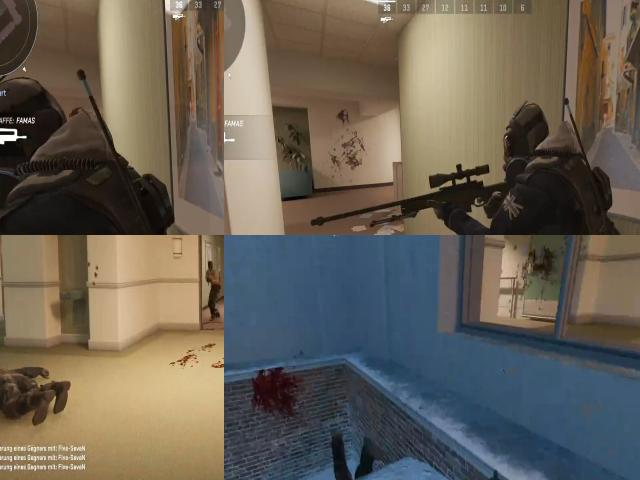CT: (22, 87, 163, 235), (491, 84, 588, 235)
CT-Head: (497, 96, 562, 188)
Dead: (328, 423, 385, 480)
T: (0, 365, 65, 416), (205, 260, 220, 294)
T-Head: (205, 257, 215, 272)
